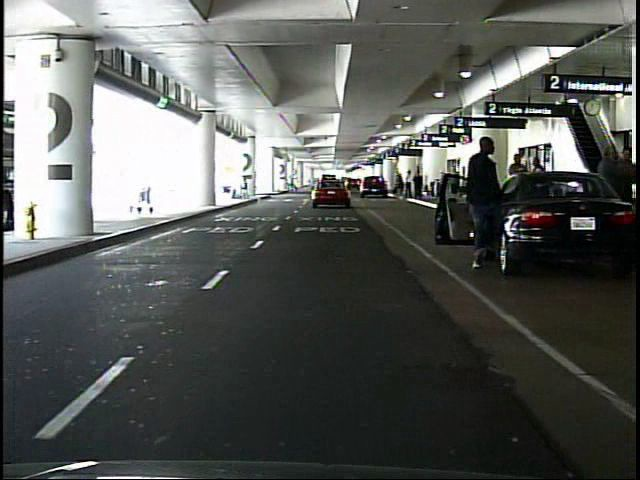person: (466, 136, 506, 274), (579, 142, 623, 229), (613, 145, 638, 221), (506, 151, 531, 218), (529, 155, 548, 218), (404, 168, 414, 200), (414, 170, 424, 200), (396, 173, 405, 197), (287, 176, 296, 193)
